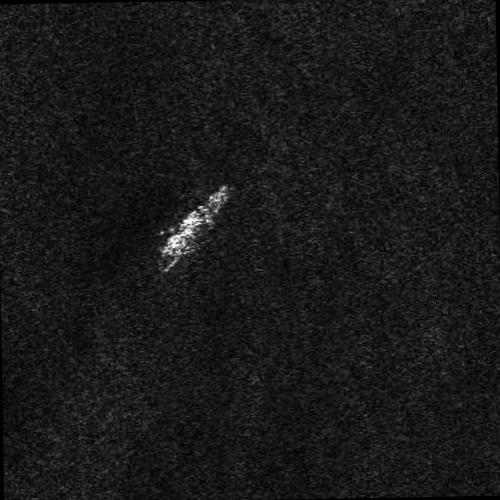ship: (158, 181, 234, 273)
